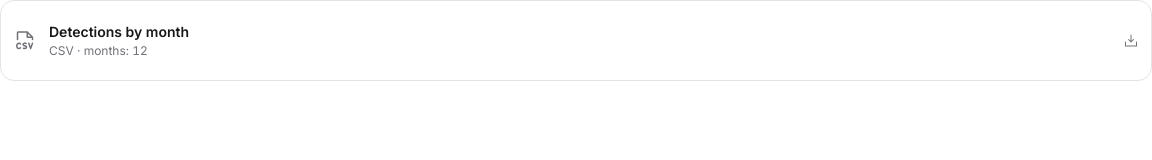
Test: WidgetView › keeps the card pressable after a failed save, and shows a file that has gone as quiet text, not a button
The width and height of the screenshot is (1152, 160).
Click the button with aria-label "Download: Detections by month" at point(119, 32), box [5,13,1147,68]
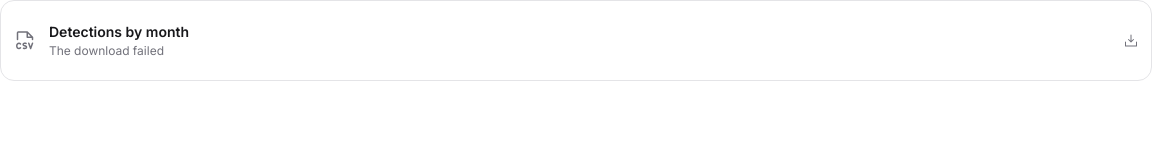
Expected: the text "The download failed" is shown, [49,43,164,58]
Click the button with aria-label "Download: Detections by month" at point(119, 32), box [5,13,1147,68]
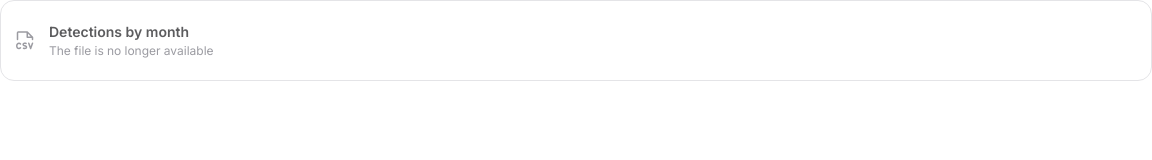
Expected: the text "The file is no longer available" is shown, [49,43,214,58]
Expected: the button "Detections by month The download failed" is gone
